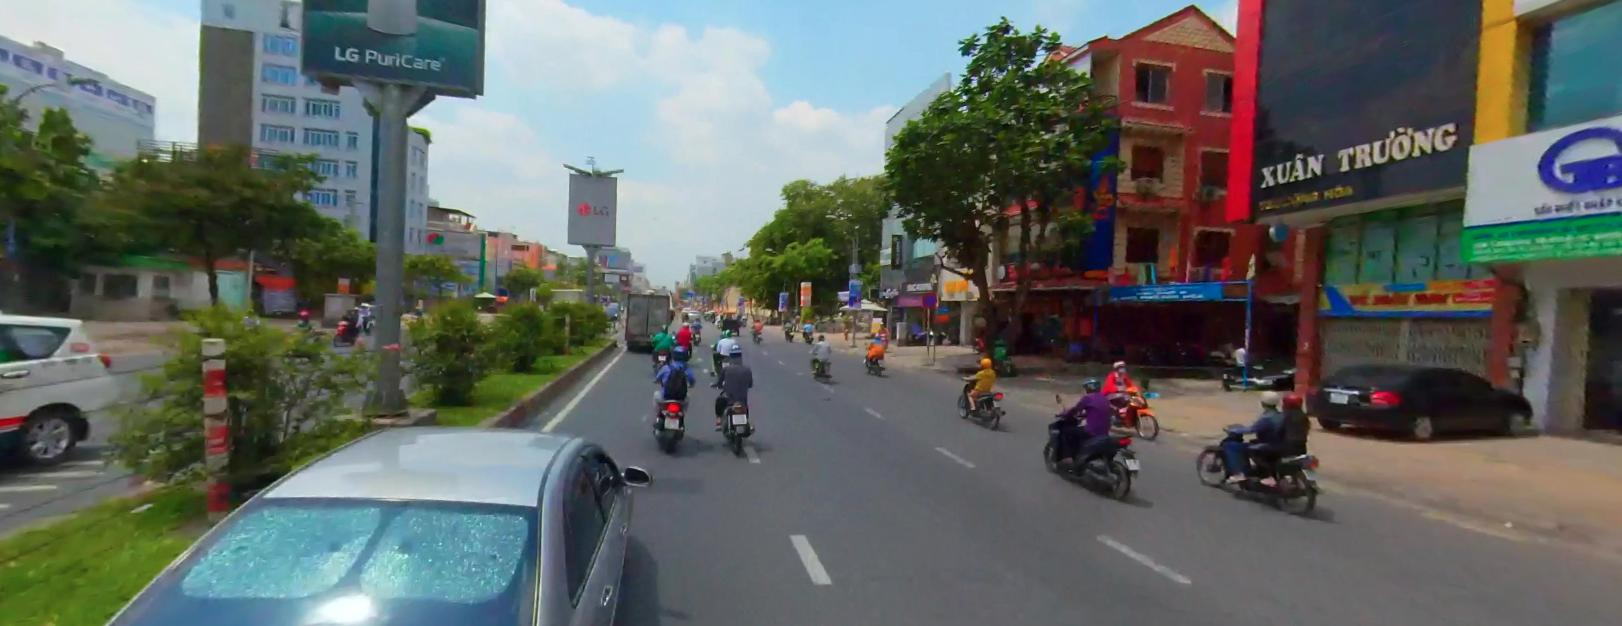Cam dung va do: (919, 288, 938, 308)
